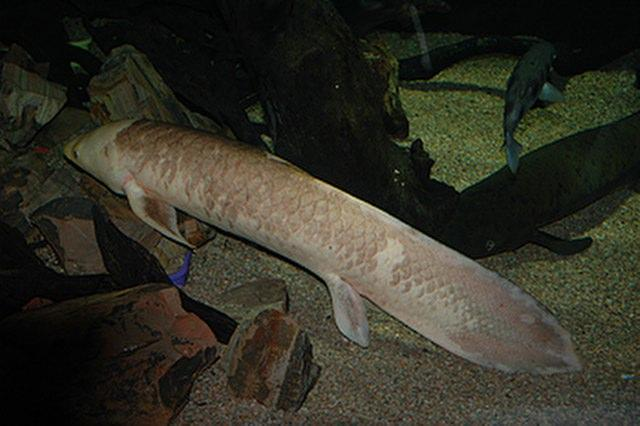Sirip Ekor: (418, 239, 590, 395)
